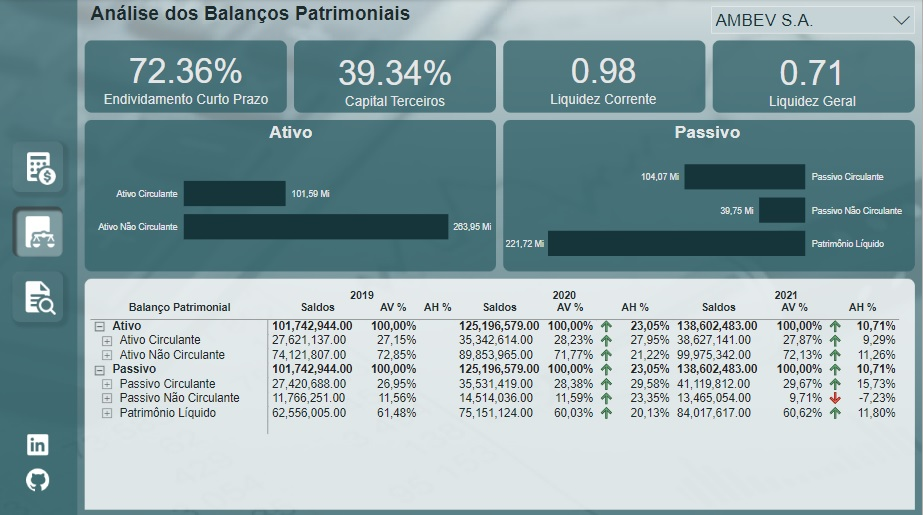

The dashboard page shown, as its layout file describes it:
{"tool":"powerbi","page":{"name":"BP","canvas":[1280,720],"ordinal":1},"visuals":[{"type":"pivotTable","fields":{"Rows":["dPlanodecontas.Grupo","dPlanodecontas.Subgrupo","dPlanodecontas.categoria","dPlanodecontas.Descricao_conta"],"Columns":["dCalendario.Ano"],"Values":["BP.Medida","BP.AV BP","BP.AH BP"]},"box":[123.3,389.3,1144.2,320],"z":0},{"type":"clusteredBarChart","title":"Ativo","fields":{"Y":["Medidas.Ativo"],"Category":["dPlanodecontas.Subgrupo"]},"box":[123.3,170.4,565.2,210.6],"z":1000},{"type":"clusteredBarChart","title":"Passivo","fields":{"Category":["dPlanodecontas.Subgrupo"],"Y":["Medidas.Passivo"]},"box":[698.2,170.4,569.4,210.6],"z":2000},{"type":"card","fields":{"Values":["Medidas.Composição do Endividamento"]},"box":[123.3,58.2,274.3,99.7],"z":3000},{"type":"card","fields":{"Values":["Medidas.Participação Capital Terceiros"]},"box":[411.4,58.2,277.1,102.5],"z":4000},{"type":"card","fields":{"Values":["Medidas.LG"]},"box":[989.1,58.2,278.4,102.5],"z":5000},{"type":"card","fields":{"Values":["Medidas.LC"]},"box":[698.2,55.4,281.2,102.5],"z":6000},{"type":"textbox","box":[123.3,8.3,576.3,47.1],"z":7000},{"type":"actionButton","box":[12.5,192.6,87.3,83.1],"z":8000},{"type":"actionButton","box":[12.5,371.3,87.3,79],"z":9000},{"type":"slicer","fields":{"Values":["dEmpresas.Nome_empresa"]},"box":[978,0,302,51.3],"z":10000},{"type":"actionButton","box":[33.2,599.8,47.1,36],"z":11000},{"type":"actionButton","box":[33.2,645.5,47.1,40.2],"z":12000}]}

Visuals, with their boxes on the page's 1280x720 design canvas (x1, y1, x2, y2). These are canvas units, not pixel positions in the 923x515 screenshot, which may show the page scaled, cropped or inside an application window:
pivotTable - dPlanodecontas.Grupo x dPlanodecontas.Subgrupo: BBox(123, 389, 1268, 709)
"Ativo" clusteredBarChart: BBox(123, 170, 688, 381)
"Passivo" clusteredBarChart: BBox(698, 170, 1268, 381)
card - Medidas.Composição do Endividamento: BBox(123, 58, 398, 158)
card - Medidas.Participação Capital Terceiros: BBox(411, 58, 688, 161)
card - Medidas.LG: BBox(989, 58, 1268, 161)
card - Medidas.LC: BBox(698, 55, 979, 158)
textbox: BBox(123, 8, 700, 55)
actionButton: BBox(12, 193, 100, 276)
actionButton: BBox(12, 371, 100, 450)
slicer - dEmpresas.Nome_empresa: BBox(978, 0, 1280, 51)
actionButton: BBox(33, 600, 80, 636)
actionButton: BBox(33, 646, 80, 686)
